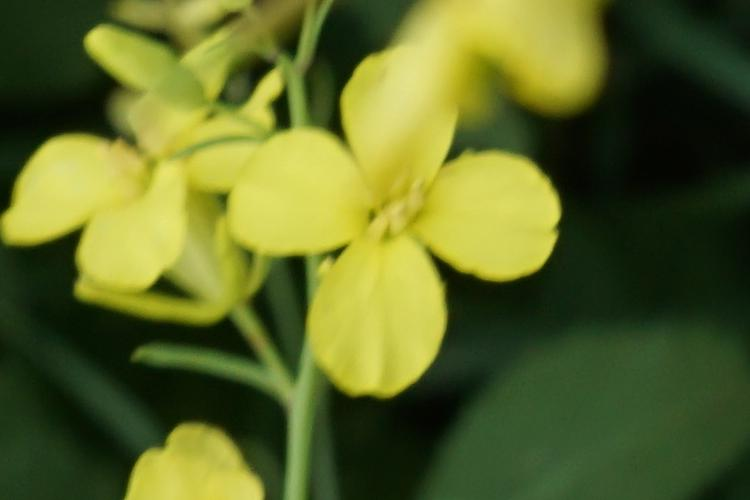bud: (82, 19, 210, 102)
yellow: (272, 70, 578, 398), (32, 75, 254, 281)
